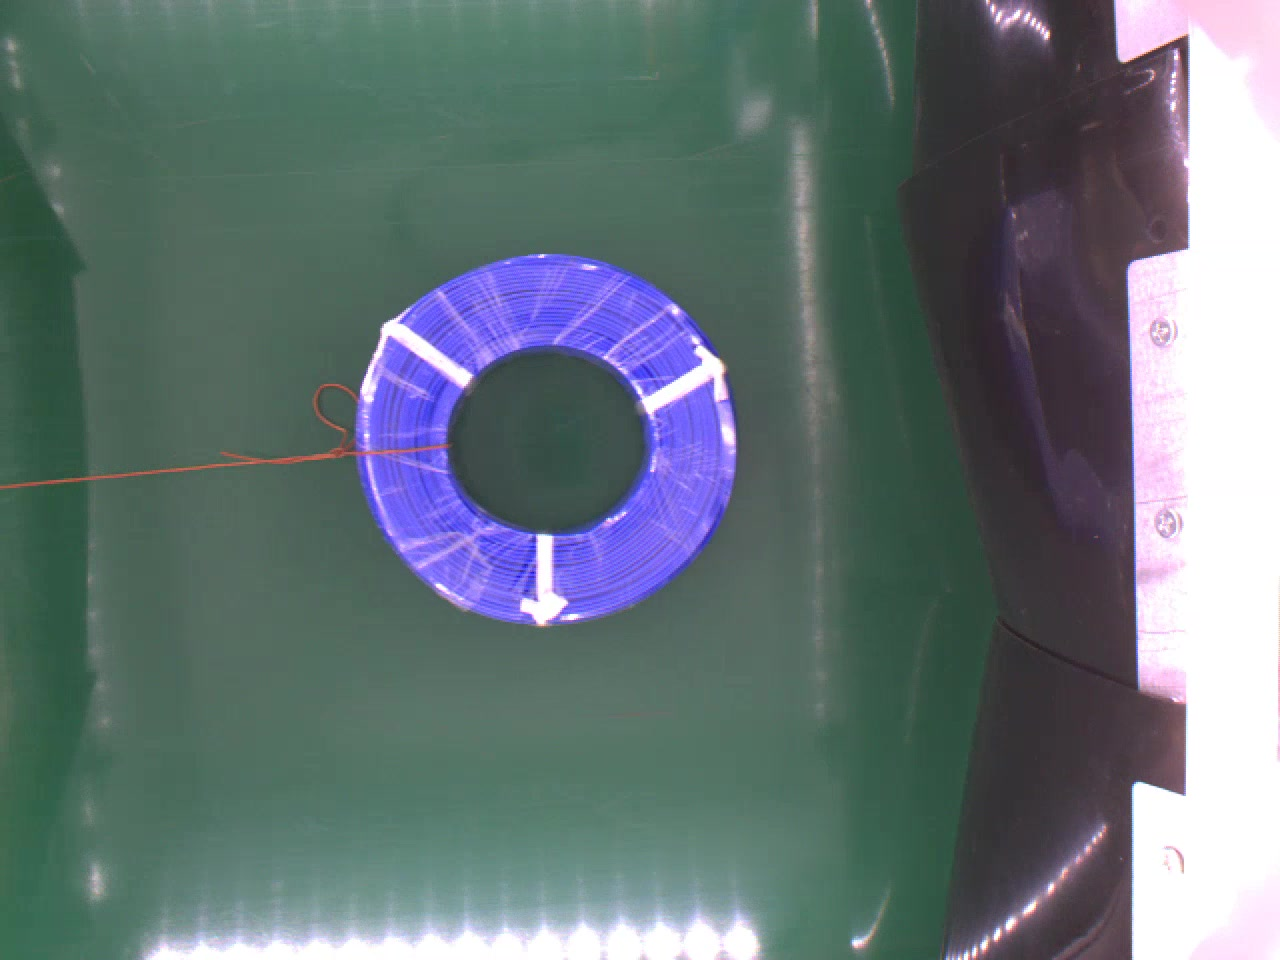blue: (358, 257, 739, 625)
